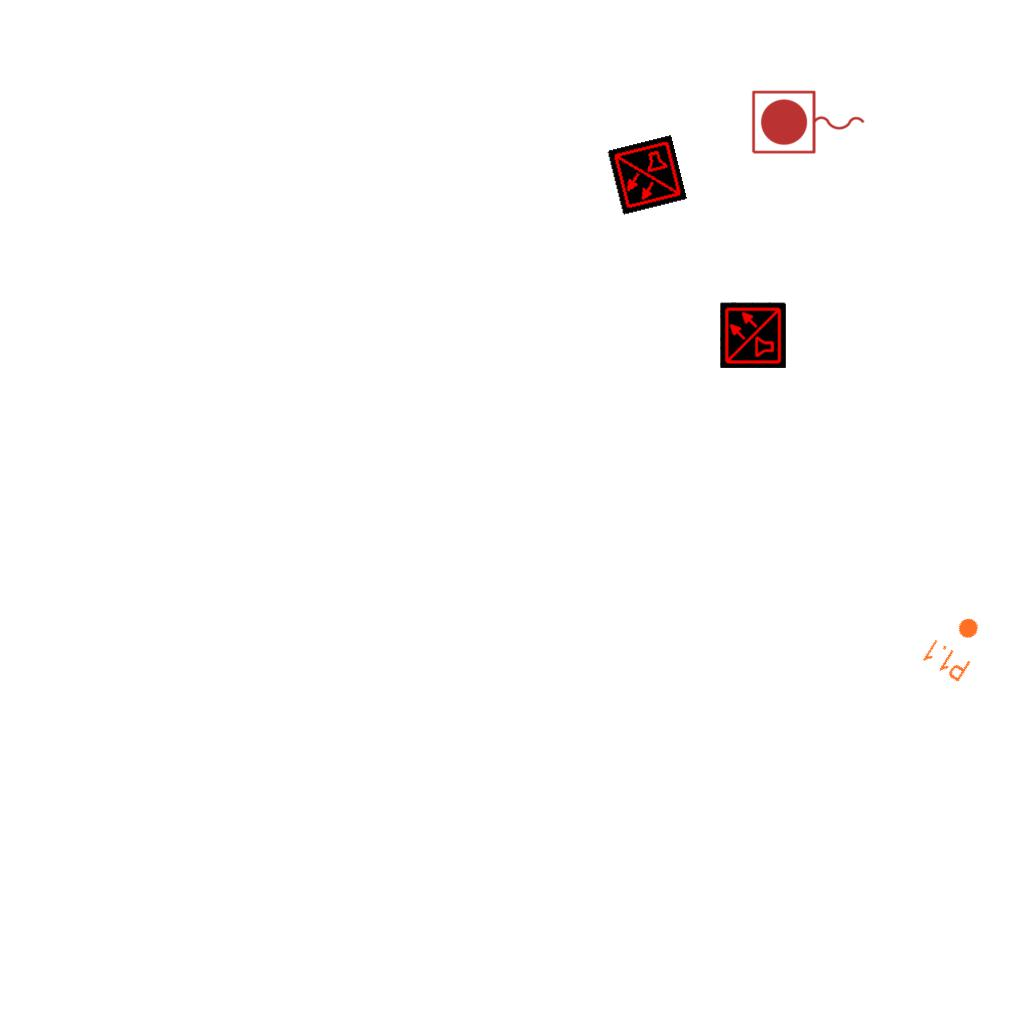Downlight_LED_Einbauleuchten_Flur: (919, 605, 993, 685)
OKW_Multisensormelder_(Kombination_optischer_Rauch-Kahlenmonoxid_Waerme-Melder): (606, 134, 688, 216), (720, 302, 786, 368)
Zugtaster: (748, 87, 870, 159)
